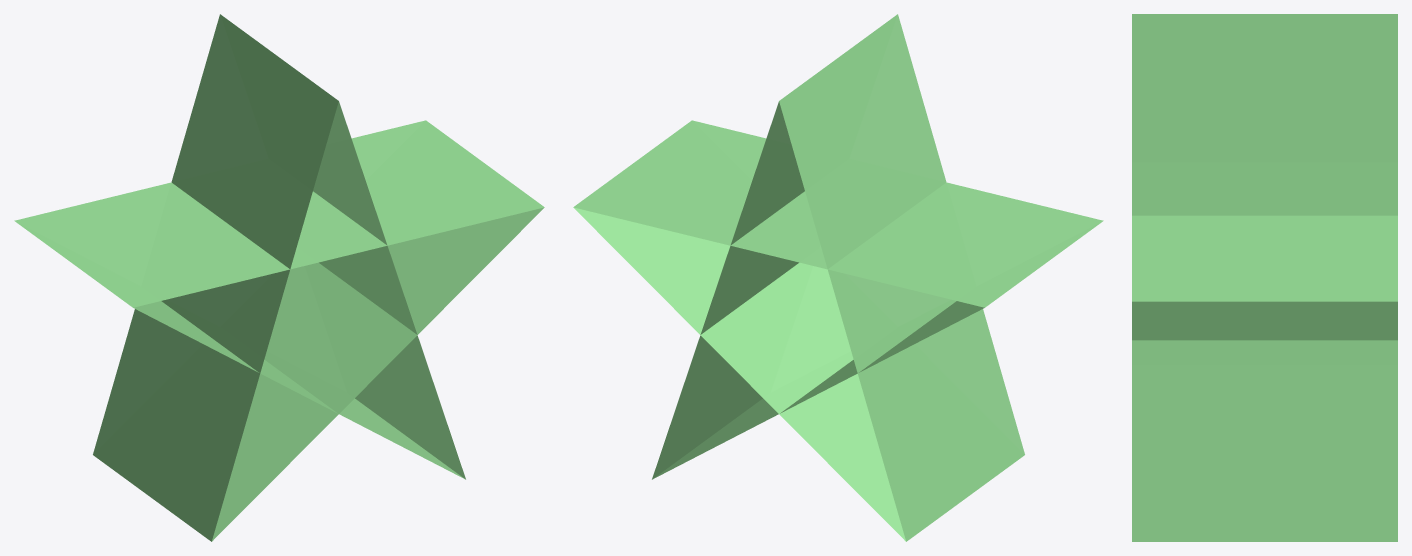
Rendered from PentagrammicPrismA.obj.
3 views of the same model, side by side, from view 1: azimuth 30°, elevation 25°; view 2: azimuth 150°, elevation 25°; view 3: azimuth 270°, elevation 25° (orthographic). The views are drawn at different scales.
Bounding box in the file's own units: 1 × 0.9511 × 0.5.
